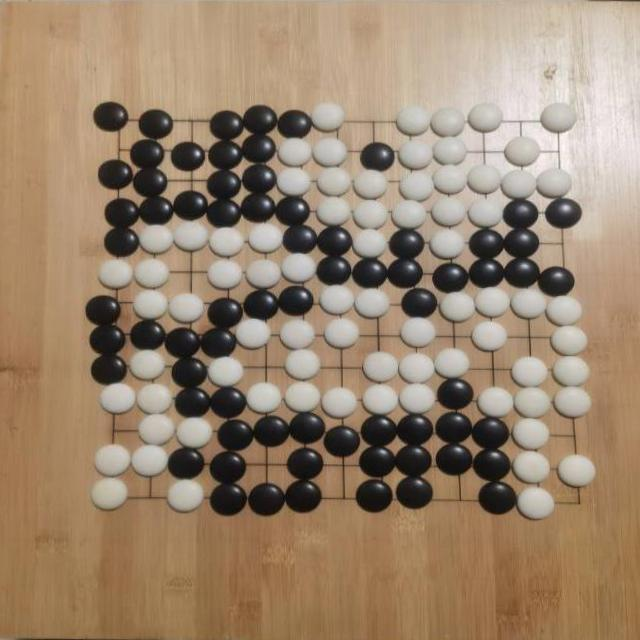blackstone: (472, 448, 512, 482), (478, 481, 518, 515), (395, 444, 433, 478), (209, 482, 247, 516), (396, 476, 434, 510), (355, 479, 393, 513), (209, 451, 248, 484), (289, 412, 326, 446), (253, 414, 290, 448), (285, 480, 322, 514), (248, 483, 285, 517), (471, 417, 509, 450), (360, 414, 398, 447), (217, 419, 255, 452), (209, 386, 247, 419), (287, 448, 325, 481), (358, 445, 396, 478), (167, 448, 206, 480), (395, 414, 434, 446), (435, 411, 472, 444), (537, 265, 575, 297), (502, 198, 540, 230), (89, 324, 126, 356), (437, 378, 474, 410), (468, 228, 505, 260), (386, 258, 423, 290), (544, 198, 582, 229), (467, 258, 505, 289), (165, 327, 201, 359), (138, 108, 174, 140), (132, 167, 168, 199), (171, 356, 207, 388), (504, 257, 540, 289), (324, 426, 360, 458), (436, 443, 472, 475), (207, 298, 244, 329), (401, 288, 438, 319), (432, 263, 469, 294), (174, 387, 211, 418), (502, 228, 540, 258), (200, 328, 238, 358), (90, 355, 128, 385), (85, 295, 121, 326), (104, 198, 140, 229), (173, 190, 209, 221), (389, 229, 425, 260), (104, 227, 140, 258), (243, 290, 279, 321), (275, 196, 311, 227), (242, 163, 278, 194), (316, 226, 352, 257), (208, 140, 244, 171), (206, 198, 242, 229), (351, 259, 388, 289), (130, 139, 165, 170), (207, 169, 242, 200), (130, 320, 166, 350), (138, 196, 174, 226), (242, 104, 278, 134), (278, 286, 314, 316), (282, 224, 318, 254), (316, 256, 352, 286), (240, 192, 276, 222), (98, 160, 133, 190), (93, 102, 128, 132), (242, 134, 277, 164), (210, 110, 244, 140), (360, 142, 395, 171), (171, 142, 206, 171), (277, 110, 313, 138)
whitestone: (557, 453, 597, 488), (131, 443, 170, 478), (512, 450, 552, 484), (94, 443, 132, 478), (167, 478, 205, 513), (516, 486, 555, 520), (137, 412, 175, 446), (90, 477, 128, 511), (512, 387, 551, 420), (284, 348, 322, 381), (512, 417, 550, 450), (176, 416, 214, 449), (553, 386, 592, 418), (545, 295, 584, 327), (550, 325, 589, 357), (247, 222, 284, 255), (467, 197, 504, 230), (398, 383, 436, 415), (129, 349, 167, 381), (552, 355, 590, 387), (362, 383, 398, 416), (400, 317, 437, 349), (235, 318, 272, 350), (471, 320, 508, 352), (284, 381, 321, 413), (208, 356, 245, 388), (207, 258, 244, 290), (136, 383, 173, 415), (209, 226, 246, 258), (173, 220, 210, 252), (477, 386, 514, 418), (511, 356, 548, 388), (99, 383, 136, 415), (540, 102, 577, 134), (354, 288, 390, 320), (362, 352, 398, 384), (246, 382, 282, 414), (322, 387, 358, 419), (281, 252, 317, 284), (434, 348, 470, 380), (139, 223, 175, 255), (398, 171, 434, 203), (134, 258, 170, 290), (399, 352, 435, 384), (352, 200, 388, 232), (510, 288, 547, 319), (536, 167, 573, 198), (133, 288, 168, 320), (280, 319, 316, 350), (439, 291, 475, 322), (246, 258, 282, 289), (319, 285, 355, 316), (430, 229, 466, 260), (474, 287, 510, 318), (352, 227, 388, 258), (432, 196, 468, 227), (168, 292, 204, 323), (390, 200, 426, 231), (312, 137, 348, 168), (501, 169, 537, 200), (98, 258, 132, 290), (324, 319, 359, 350), (317, 195, 352, 226), (467, 164, 502, 195), (276, 166, 312, 196), (316, 166, 352, 196), (504, 136, 540, 166), (432, 164, 468, 194), (430, 106, 466, 136), (310, 102, 346, 132), (467, 102, 503, 132), (278, 137, 312, 168), (353, 168, 388, 198), (398, 140, 433, 170), (432, 136, 467, 166), (396, 105, 431, 135)
